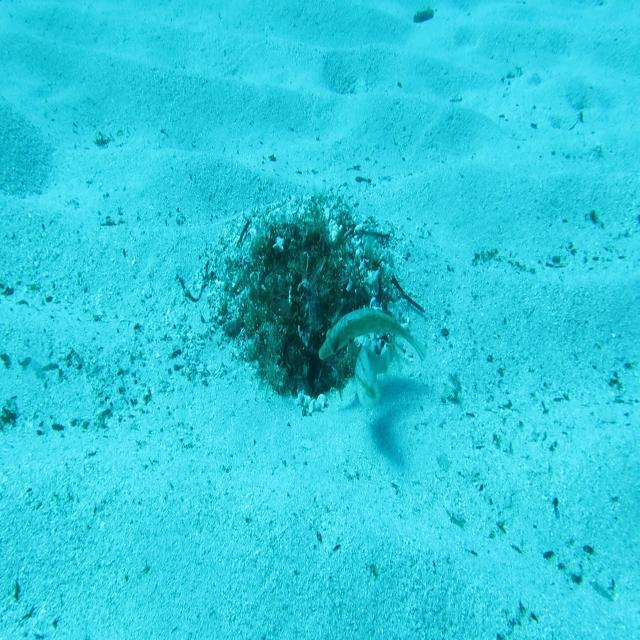BEND: (313, 301, 429, 368)
core_nest: (278, 232, 328, 292)
female: (345, 331, 404, 409)
nest: (186, 177, 409, 431)
vegetation: (412, 3, 436, 25)
